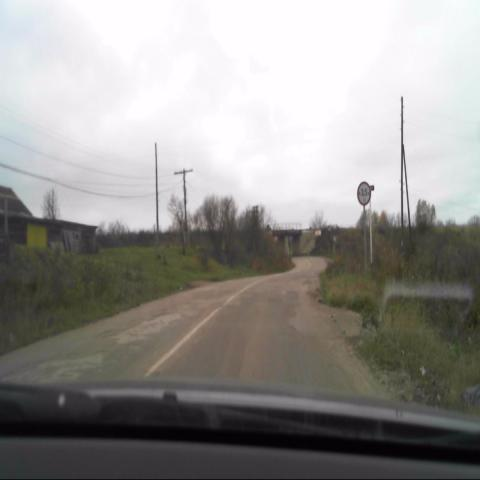3_14: (357, 181, 370, 206)
